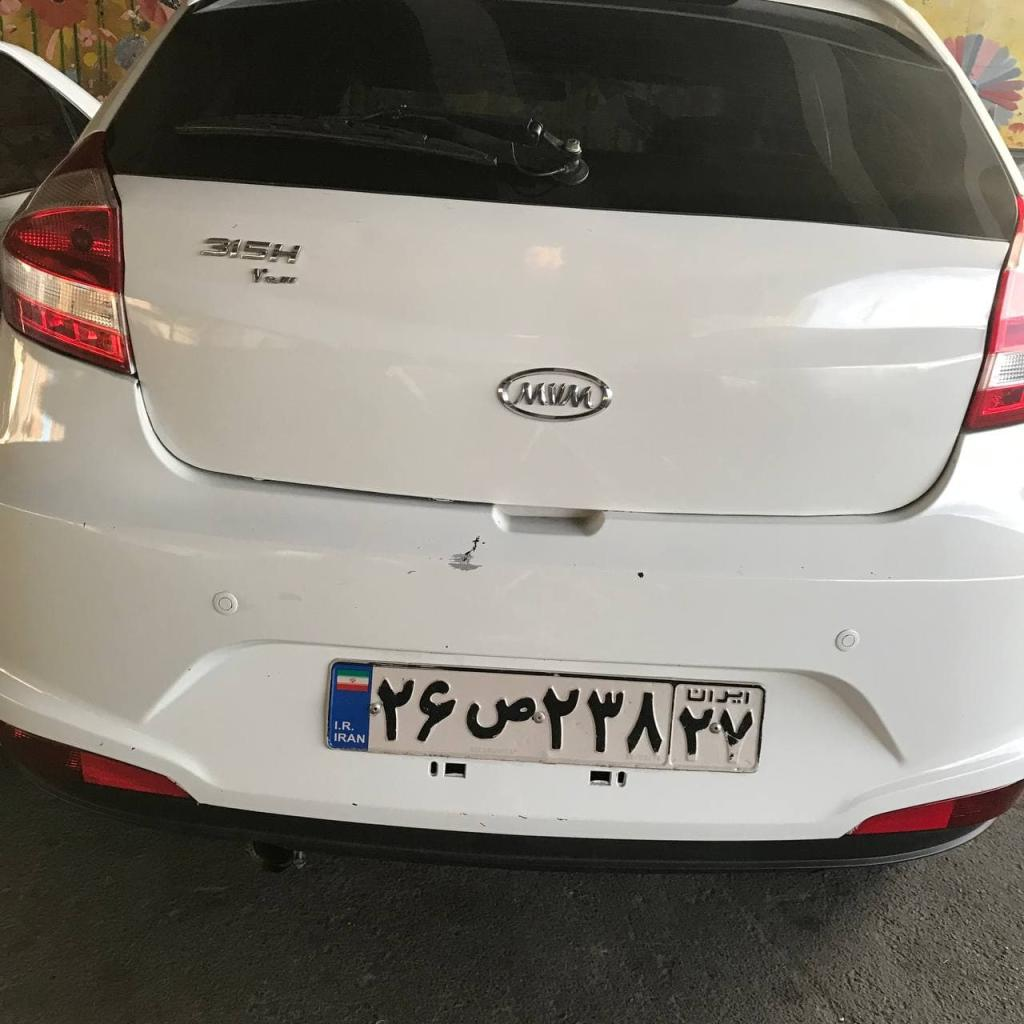Plates: (329, 660, 764, 772)
